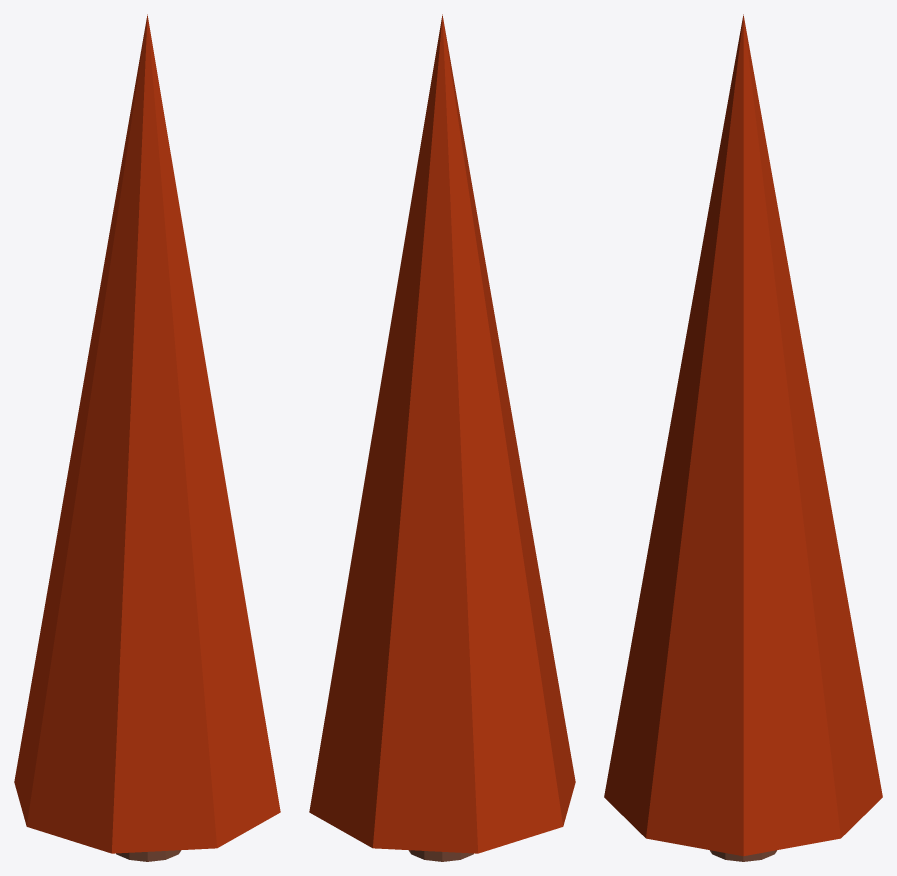
The model's file is Tree_24_summer_red_mat.fbx.
3 renders of one model, left to right at view 1: azimuth 30°, elevation 25°; view 2: azimuth 150°, elevation 25°; view 3: azimuth 270°, elevation 25°, orthographic.
Visible parts, largest first — view 1: Tree_24_summer_red_mat; view 2: Tree_24_summer_red_mat; view 3: Tree_24_summer_red_mat.
Part boxes in pixels (x1,y1,x2,y2): Tree_24_summer_red_mat: (14,14,280,861); Tree_24_summer_red_mat: (309,14,575,861); Tree_24_summer_red_mat: (604,14,882,861).
Bounding box in the file's own units: 85.35 × 281 × 85.35.
